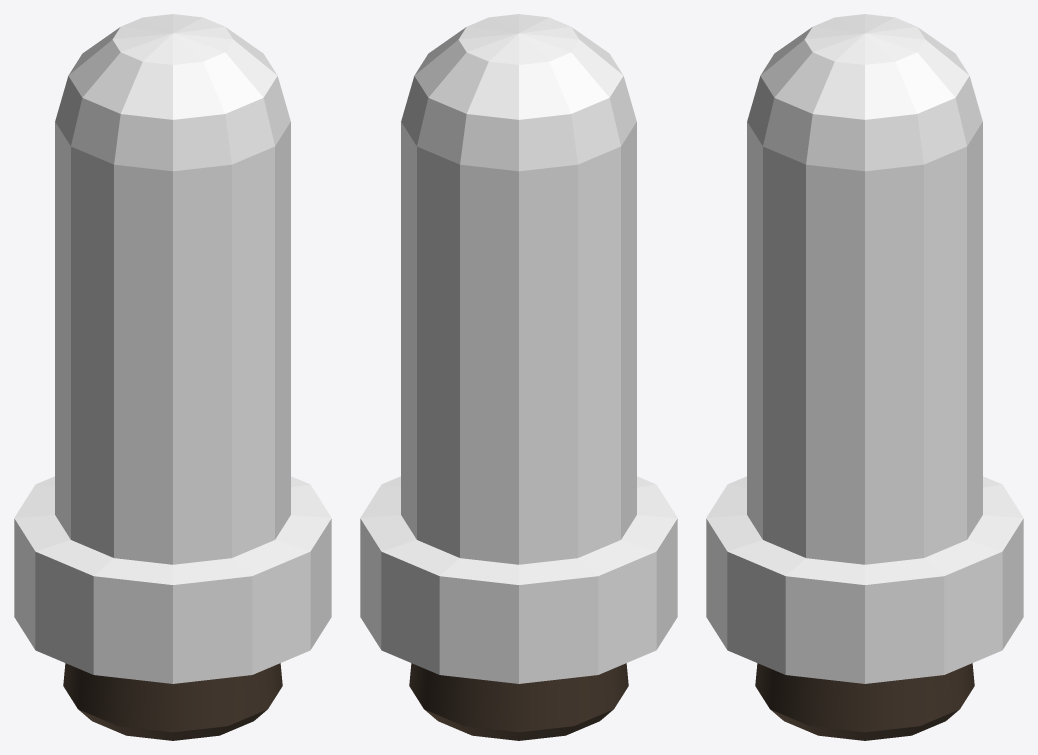
Rendered from SM_PotionNameless_02.fbx.
The picture shows the model from 3 angles, left to right: view 1: azimuth 30°, elevation 25°; view 2: azimuth 150°, elevation 25°; view 3: azimuth 270°, elevation 25°; orthographic projection.
Visible parts, largest first — view 1: SM_PotionNameless, SM_PotionNamelessCork; view 2: SM_PotionNameless, SM_PotionNamelessCork; view 3: SM_PotionNameless, SM_PotionNamelessCork.
Boxes of the visible parts, x1,y1,x2,y2 form: SM_PotionNameless: (14,14,331,683); SM_PotionNamelessCork: (63,663,282,740); SM_PotionNameless: (360,14,677,683); SM_PotionNamelessCork: (409,663,628,740); SM_PotionNameless: (706,14,1023,683); SM_PotionNamelessCork: (755,663,974,740).
Bounding box in the file's own units: 10.46 × 24.28 × 10.46.
